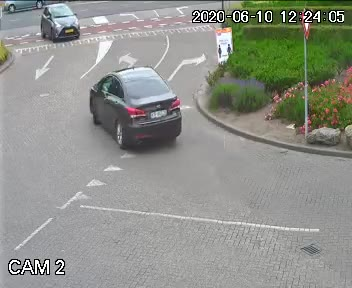car: (86, 59, 176, 160), (35, 2, 83, 42), (5, 0, 52, 14)
